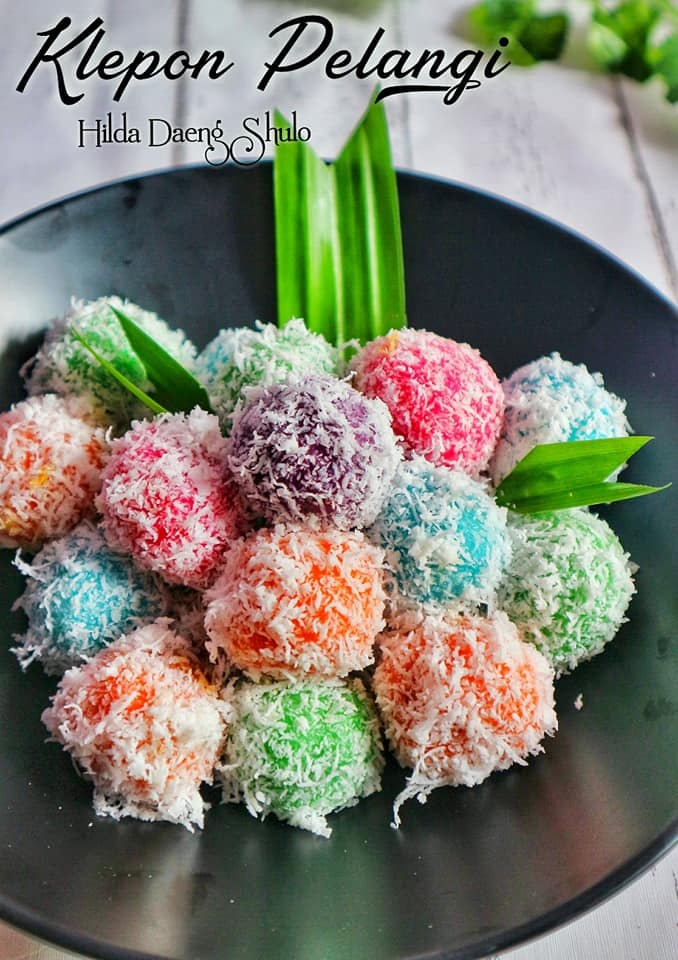klepon: (365, 604, 592, 796), (68, 629, 235, 833), (203, 528, 388, 682), (237, 370, 384, 530)
